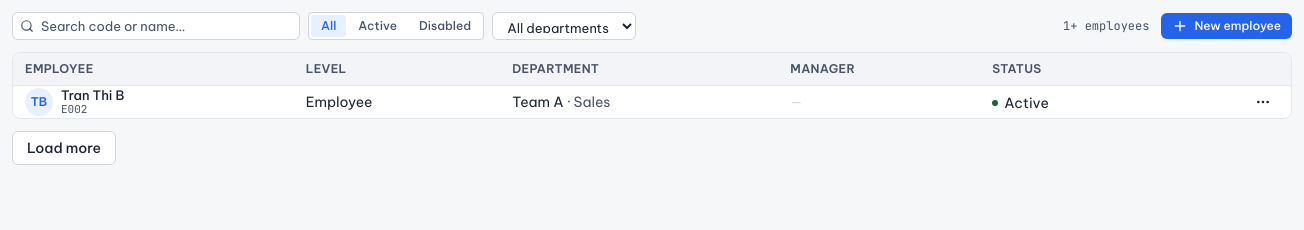
Test: UsersPanel: listing › shows an error when the next page fails and keeps what is already there
Expected: the text "Tran Thi B" is shown, [61,86,124,103]
Step 1. Click the button "Load more" → [64, 148], box [12,130,116,164]
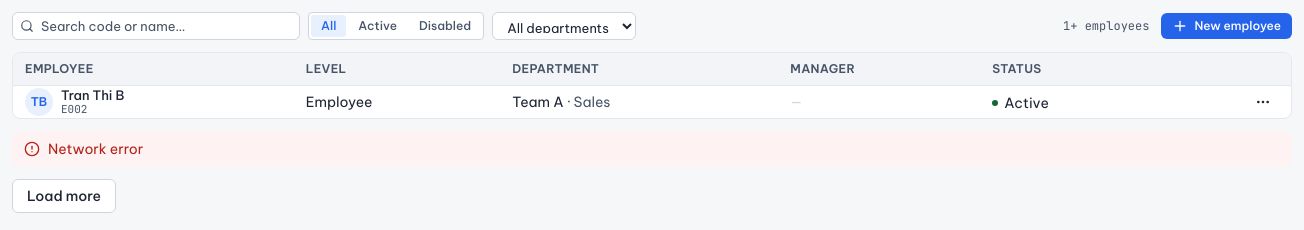
Expected: the text "Tran Thi B" is shown, [61,86,124,103]
Expected: the message reads "Network error", [48,140,143,158]
